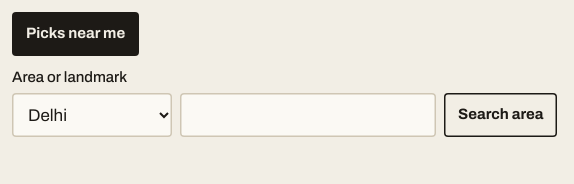
Test: HomeNearMe › survives a non-JSON 500 without leaking a parse error
The width and height of the screenshot is (574, 184).
Type "Chandni Chowk" into the search field labelled "Area or landmark" at (308, 115), box [180,93,436,137]
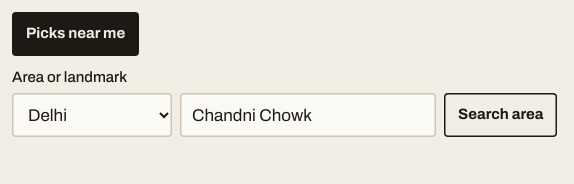
Click the button "Search area" at (501, 115), box [444,93,558,137]
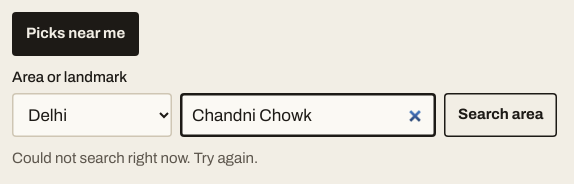
Expected: the text "Could not search right now. Try again." is shown, [12,151,258,167]
